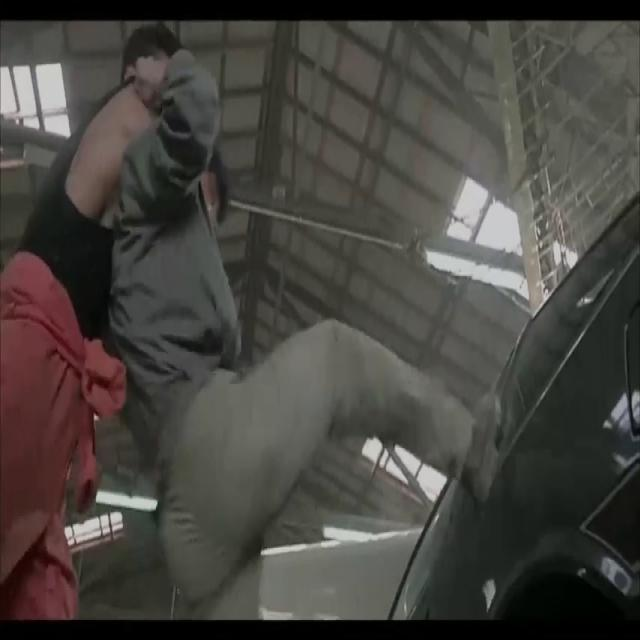fight: (0, 17, 499, 631)
